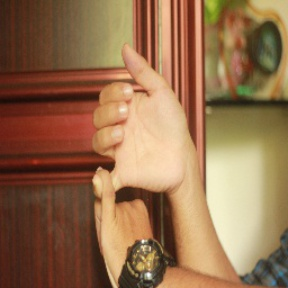S: (87, 40, 183, 282)
